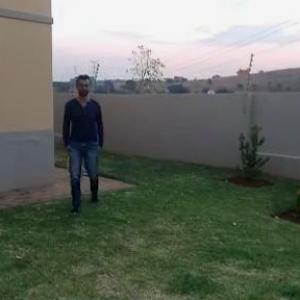follow: (46, 64, 103, 234)
